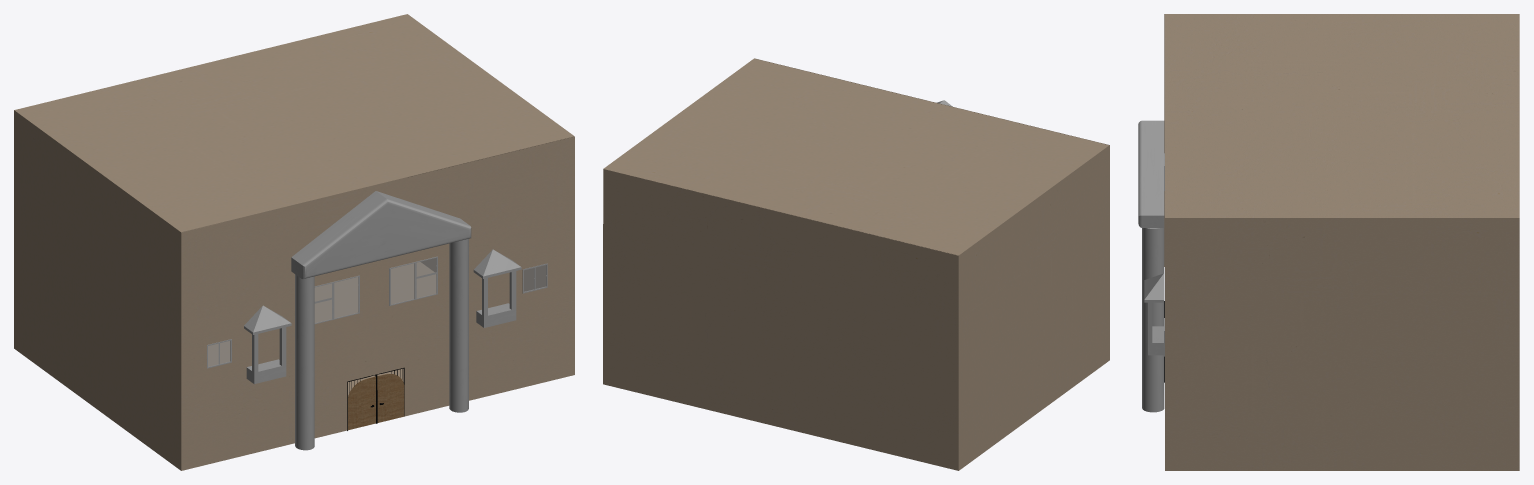
File: HOUSE FOR ENV.fbx
3 views of the same model, side by side, from view 1: azimuth 30°, elevation 25°; view 2: azimuth 150°, elevation 25°; view 3: azimuth 270°, elevation 25° (orthographic). The views are drawn at different scales.
Visible parts, largest first — view 1: pCube26, FRONT, Balcony, polySurface34_x3Glass2_0, polySurface34_x3Glass2_1, pCube8, pCube25; view 2: pCube26; view 3: pCube26, FRONT, Balcony.
Boxes of the visible parts, bbox=[...] form: pCube26: bbox=[14, 14, 574, 470]; FRONT: bbox=[291, 191, 471, 450]; Balcony: bbox=[244, 249, 521, 384]; polySurface34_x3Glass2_0: bbox=[391, 258, 436, 304]; polySurface34_x3Glass2_1: bbox=[314, 277, 358, 323]; pCube8: bbox=[348, 376, 375, 429]; pCube25: bbox=[377, 374, 404, 422]; pCube26: bbox=[603, 58, 1109, 470]; pCube26: bbox=[1164, 14, 1519, 470]; FRONT: bbox=[1138, 120, 1164, 412]; Balcony: bbox=[1144, 273, 1163, 355].
Size of the model in its own units: 17.46 by 12.63 by 13.81.
Materials: 9 (3 with a texture image).
